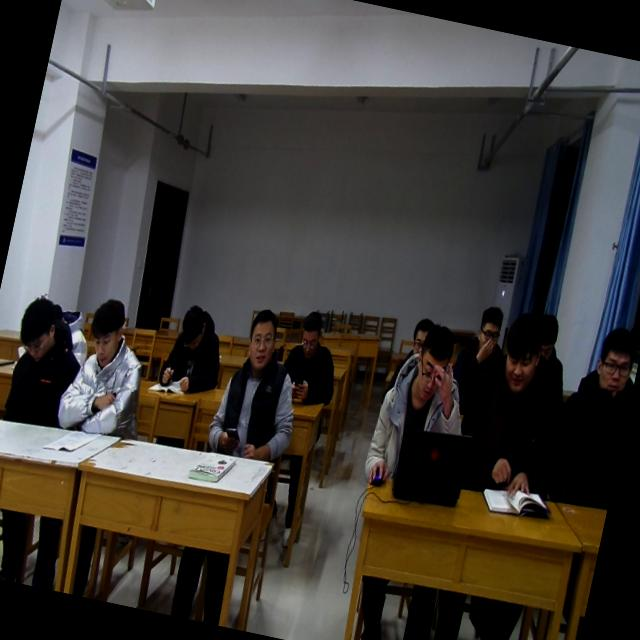down: (494, 305, 551, 398), (9, 290, 64, 368), (81, 289, 135, 366), (410, 319, 460, 401), (172, 298, 212, 358), (472, 298, 508, 357), (530, 308, 564, 368), (293, 302, 327, 358)
lookup: (587, 318, 640, 405), (238, 300, 285, 374), (404, 311, 434, 362)
sit: (448, 300, 580, 506), (361, 314, 482, 502), (202, 300, 316, 471), (546, 318, 640, 505), (51, 290, 160, 448), (0, 284, 83, 425), (152, 294, 234, 398), (273, 302, 350, 408), (526, 296, 597, 388), (453, 300, 512, 400), (398, 302, 446, 372)
